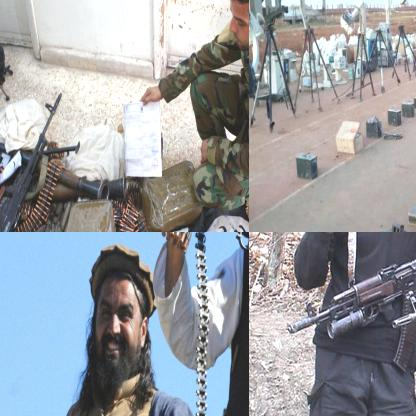rifle: (286, 249, 415, 371), (24, 232, 248, 295), (0, 91, 65, 231)
